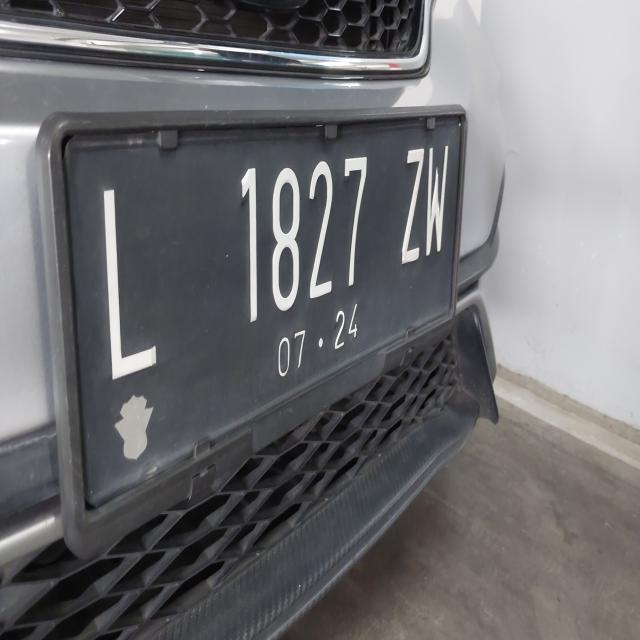1: (225, 166, 269, 332)
2: (306, 154, 340, 310)
7: (340, 144, 368, 302)
8: (268, 163, 304, 325)
L: (90, 176, 164, 392)
W: (424, 138, 450, 258)
Z: (398, 138, 426, 280)
